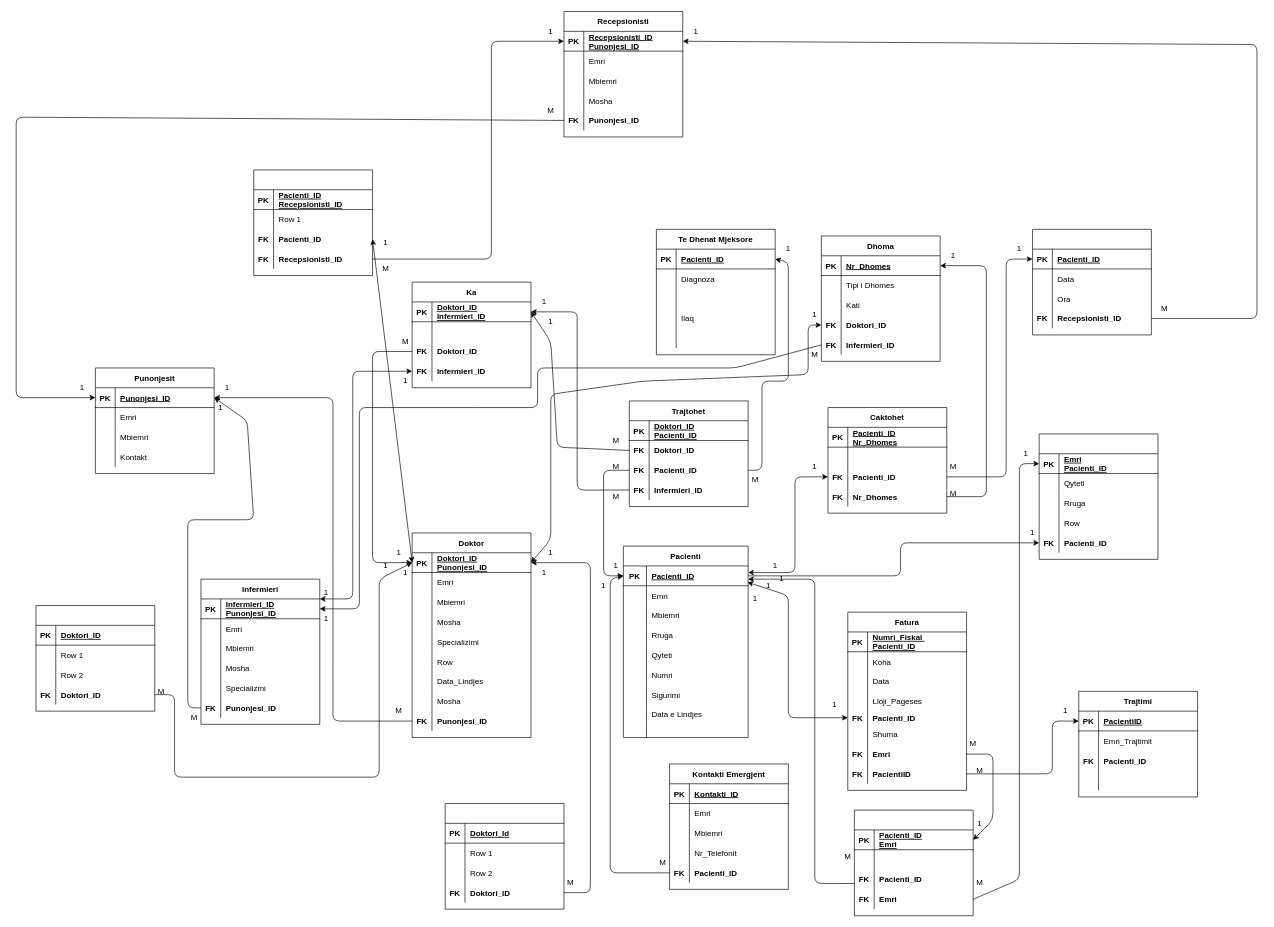
Image size: 1274x927. Some labels were removed from this diagram. Here are the shapes that lost their labels. From the top down, the box of each, then its label:
(253, 169, 373, 276): Regjistron
(1032, 229, 1151, 335): Termini
(1039, 433, 1158, 559): Kompania e Sigurimit
(35, 605, 155, 711): Rekrut
(445, 803, 564, 909): Vizituesit
(854, 809, 973, 916): Posedon
